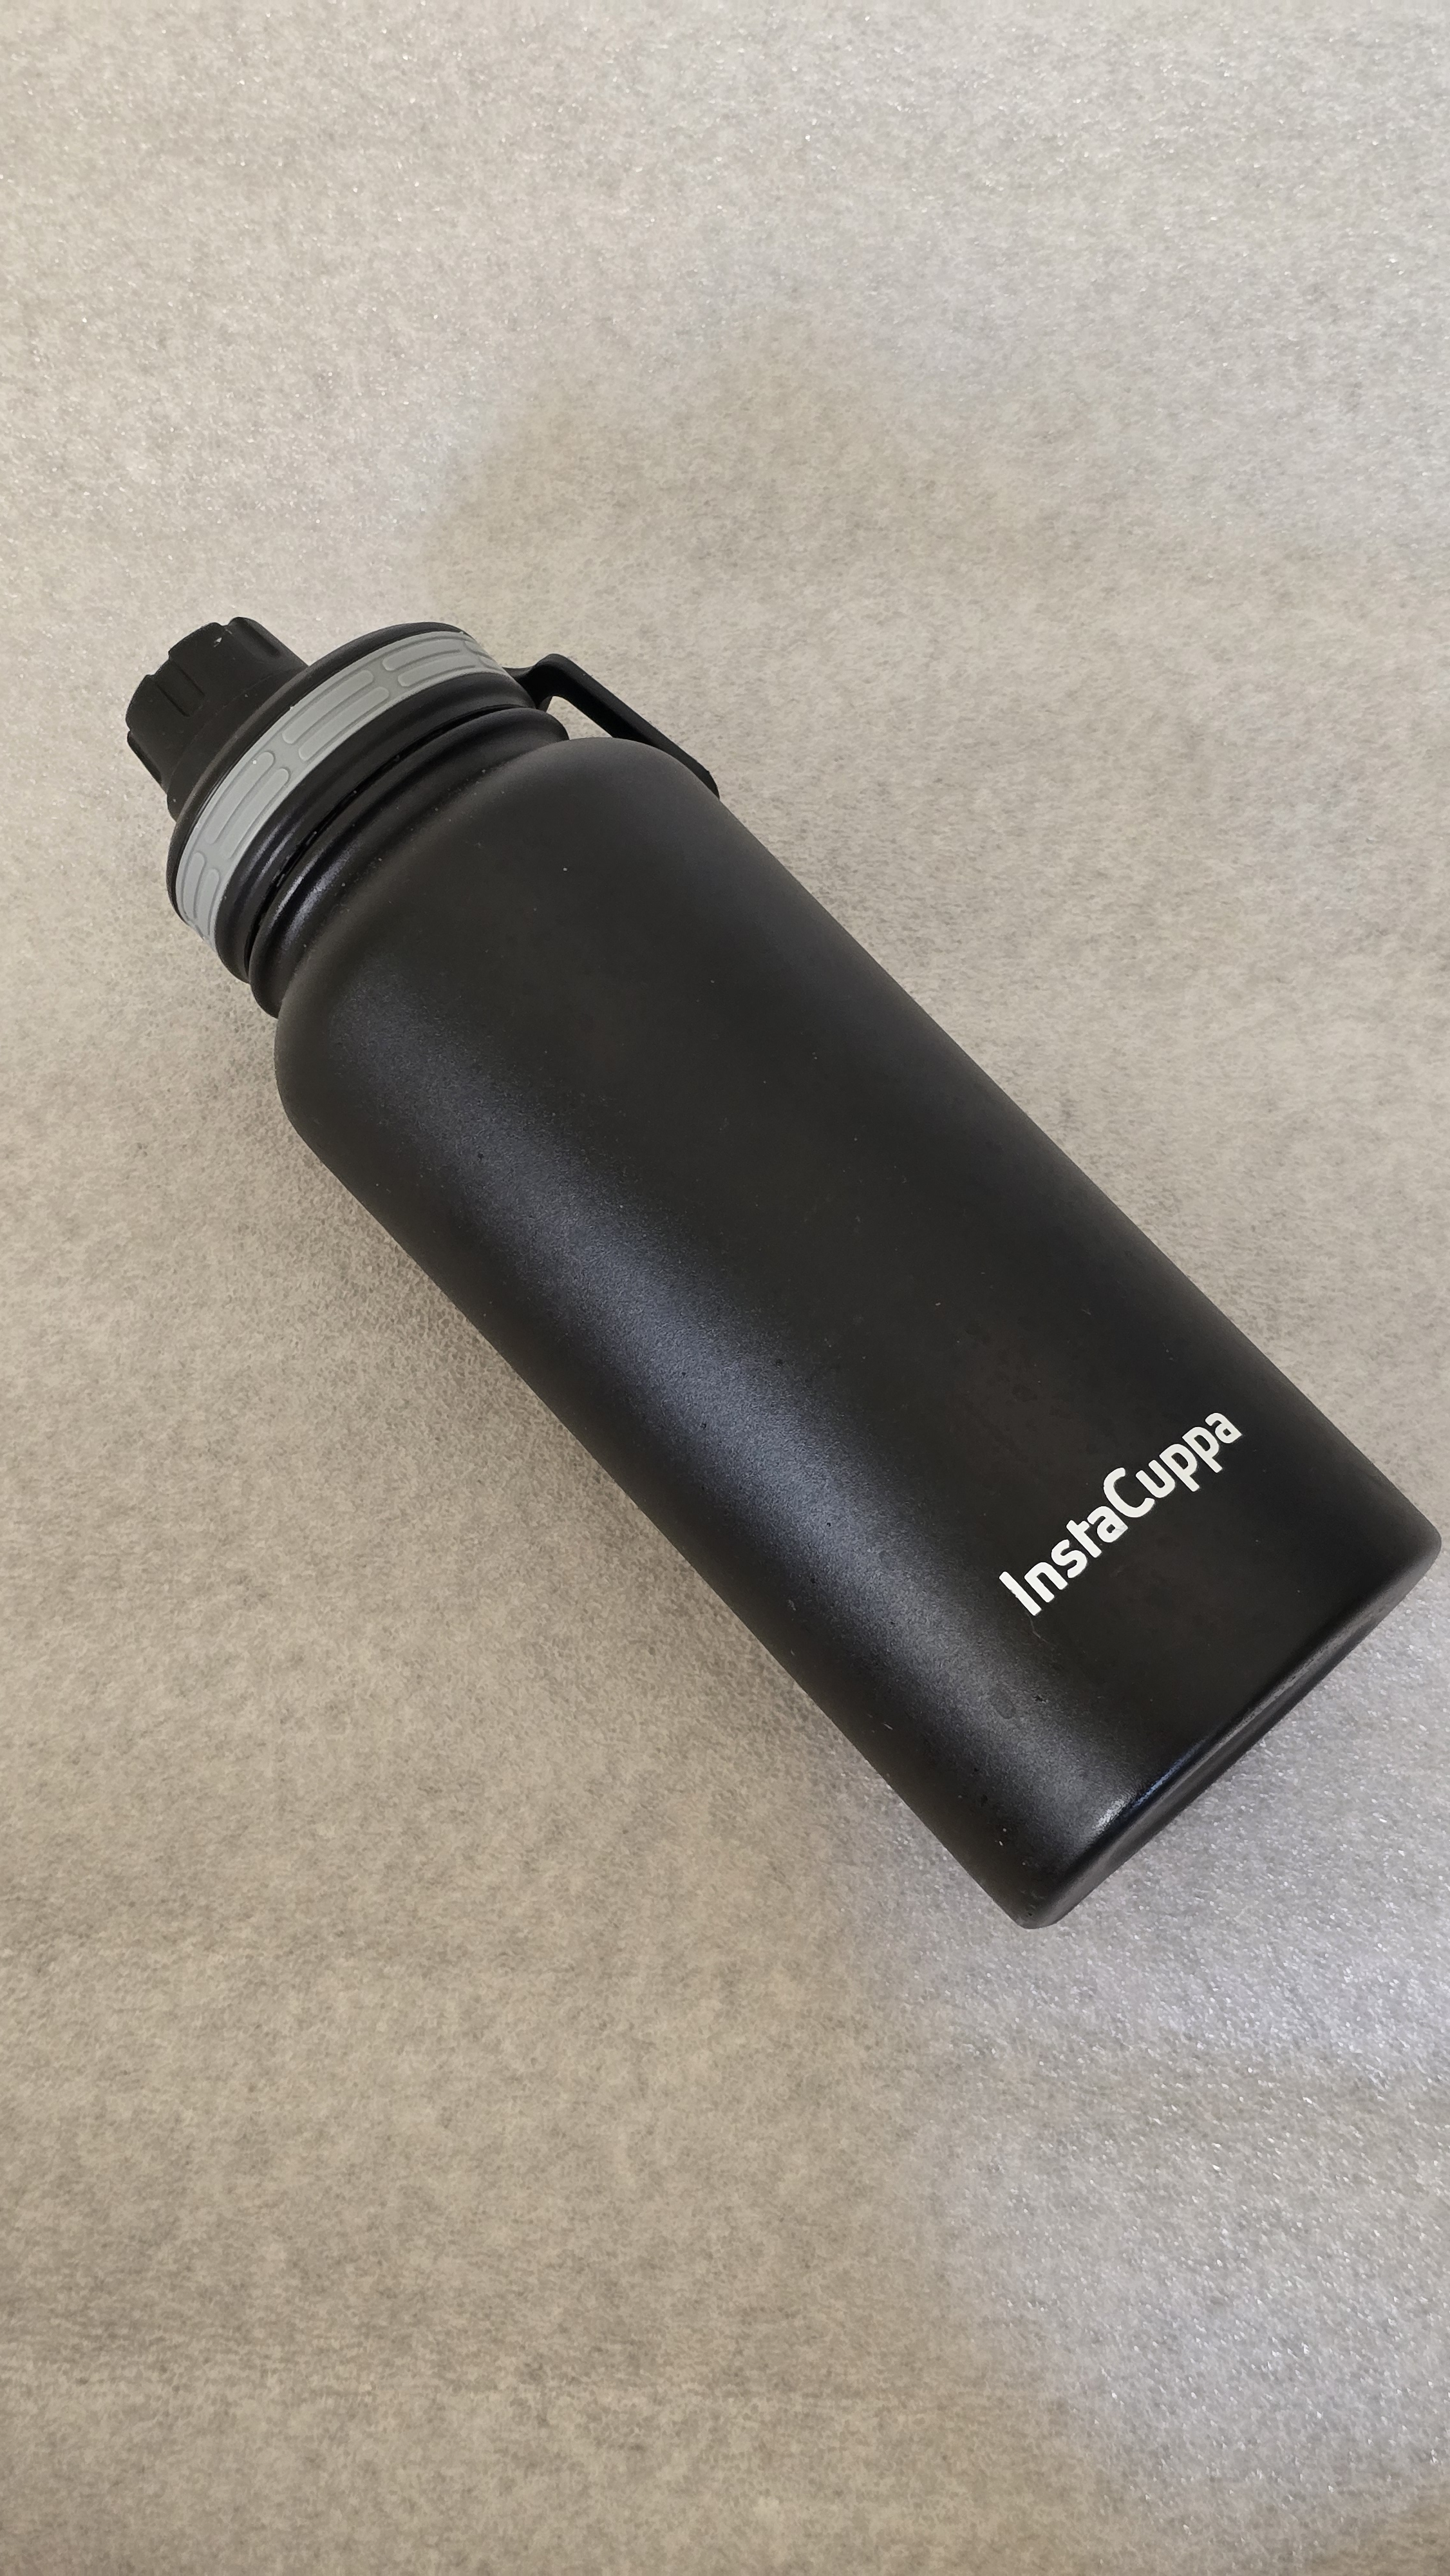bottle: (74, 525, 1450, 1928)
